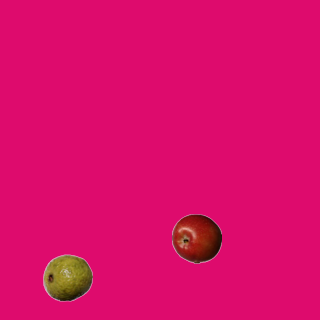Apple Braeburn: (171, 213, 221, 263)
Guava: (42, 252, 92, 302)
